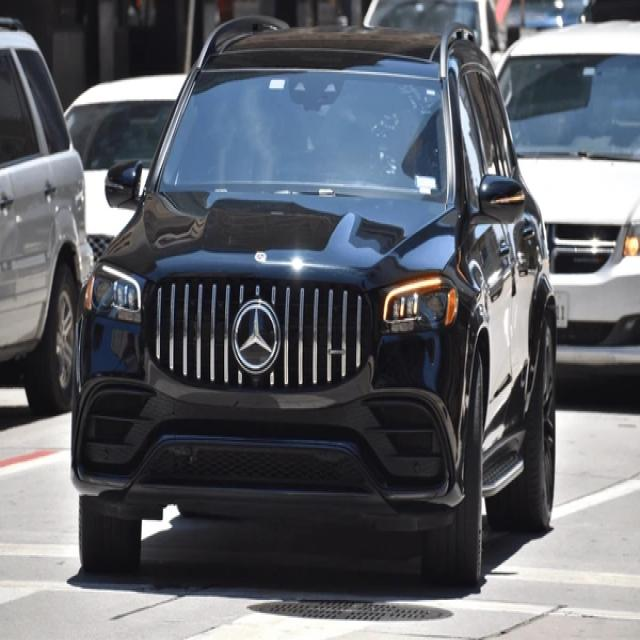mercedes: (230, 298, 282, 372)
